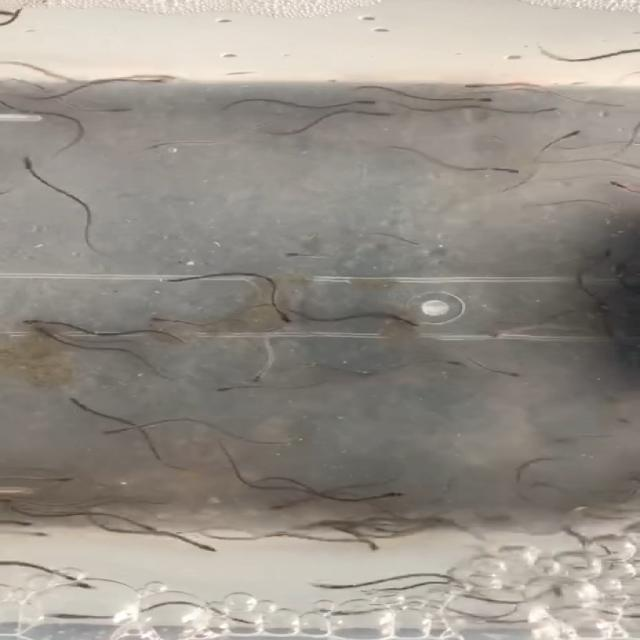active_glass_eel: (250, 499, 300, 516), (498, 162, 534, 179), (282, 249, 316, 267), (387, 316, 424, 331), (71, 578, 101, 596), (603, 177, 633, 194), (190, 542, 224, 557), (247, 369, 275, 387), (356, 538, 387, 552), (300, 580, 336, 592), (266, 312, 299, 324), (385, 488, 411, 503), (54, 472, 78, 488), (110, 104, 139, 117), (136, 521, 165, 534), (351, 98, 385, 109), (40, 612, 80, 621), (498, 368, 523, 382), (18, 155, 38, 171), (97, 428, 128, 438), (566, 127, 586, 142), (66, 396, 86, 410), (596, 248, 616, 262), (444, 361, 471, 371), (378, 110, 404, 120), (476, 96, 502, 106), (150, 316, 176, 326), (20, 316, 46, 326), (141, 143, 164, 154), (540, 106, 568, 115), (145, 78, 175, 86), (216, 386, 244, 394), (463, 83, 492, 90), (30, 327, 53, 335), (35, 532, 52, 540), (21, 521, 34, 529)
